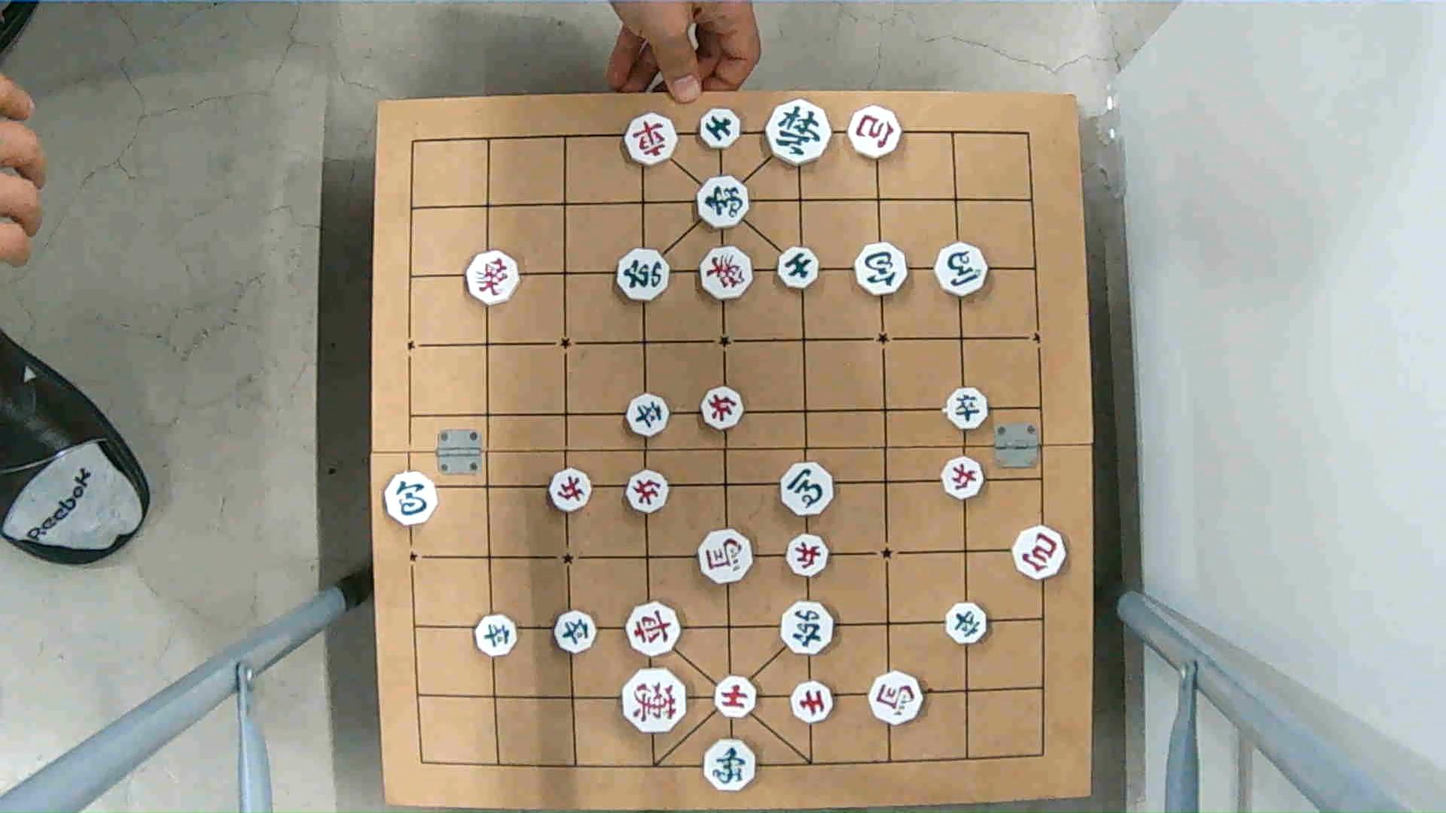cha_green: (780, 602, 834, 655), (619, 248, 670, 300)
cha_red: (626, 603, 681, 653), (625, 116, 676, 161)
jol_green: (945, 389, 991, 429), (624, 394, 670, 434), (944, 607, 993, 644), (474, 617, 520, 656), (555, 609, 596, 652)
jol_red: (548, 471, 596, 510), (700, 388, 746, 428), (785, 535, 832, 574), (938, 460, 986, 498), (625, 473, 672, 511)
ma_green: (778, 460, 835, 516), (932, 245, 988, 295)
ma_red: (868, 672, 921, 723), (700, 530, 751, 581)
po_green: (852, 244, 909, 294), (385, 472, 438, 525)
po_red: (1011, 525, 1068, 579), (848, 108, 898, 155)
sa_green: (776, 248, 820, 287), (698, 111, 743, 149)
sa_red: (714, 678, 758, 717), (792, 682, 834, 720)
sang_green: (697, 176, 750, 227), (706, 742, 754, 789)
sang_red: (468, 252, 518, 303), (703, 251, 750, 298)
wang_green: (765, 105, 831, 163)
wang_red: (624, 672, 684, 731)
